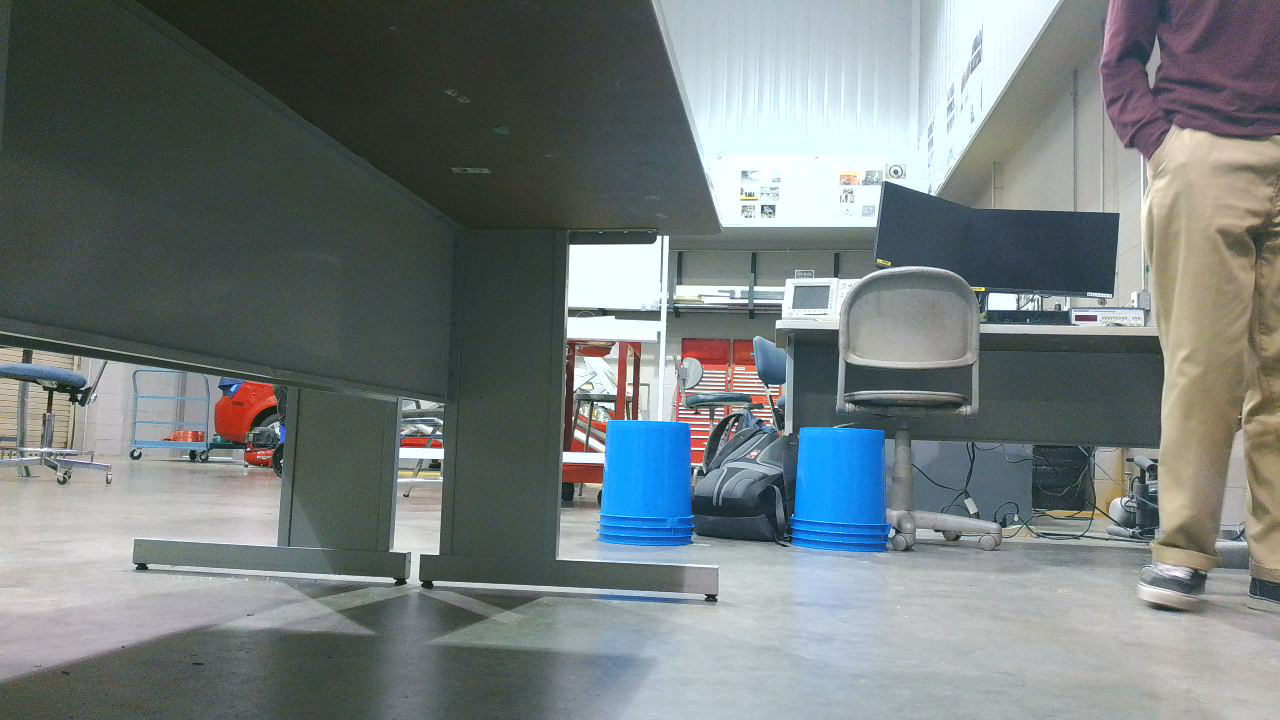blue_bucket: (789, 430, 898, 559), (600, 421, 705, 554)
